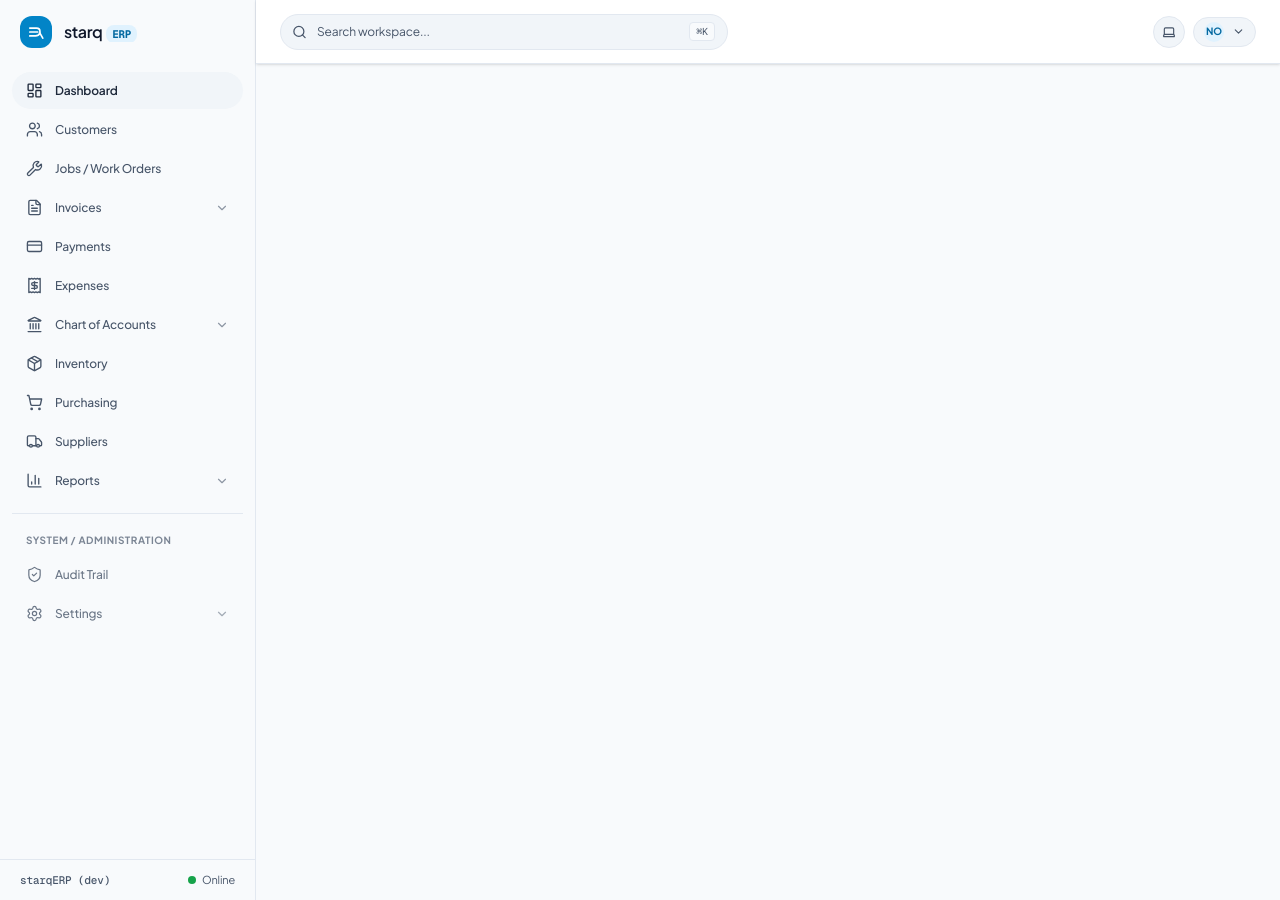
SERP-298 — Strict Platform Entitlement & Access Isolation › allows an operator identity with explicit platform_entitlement to access Starq HQ
// Open organization switcher dropdown
Click the button with aria-label "Organization switcher" at (1224, 32), box [1193,16,1256,46]
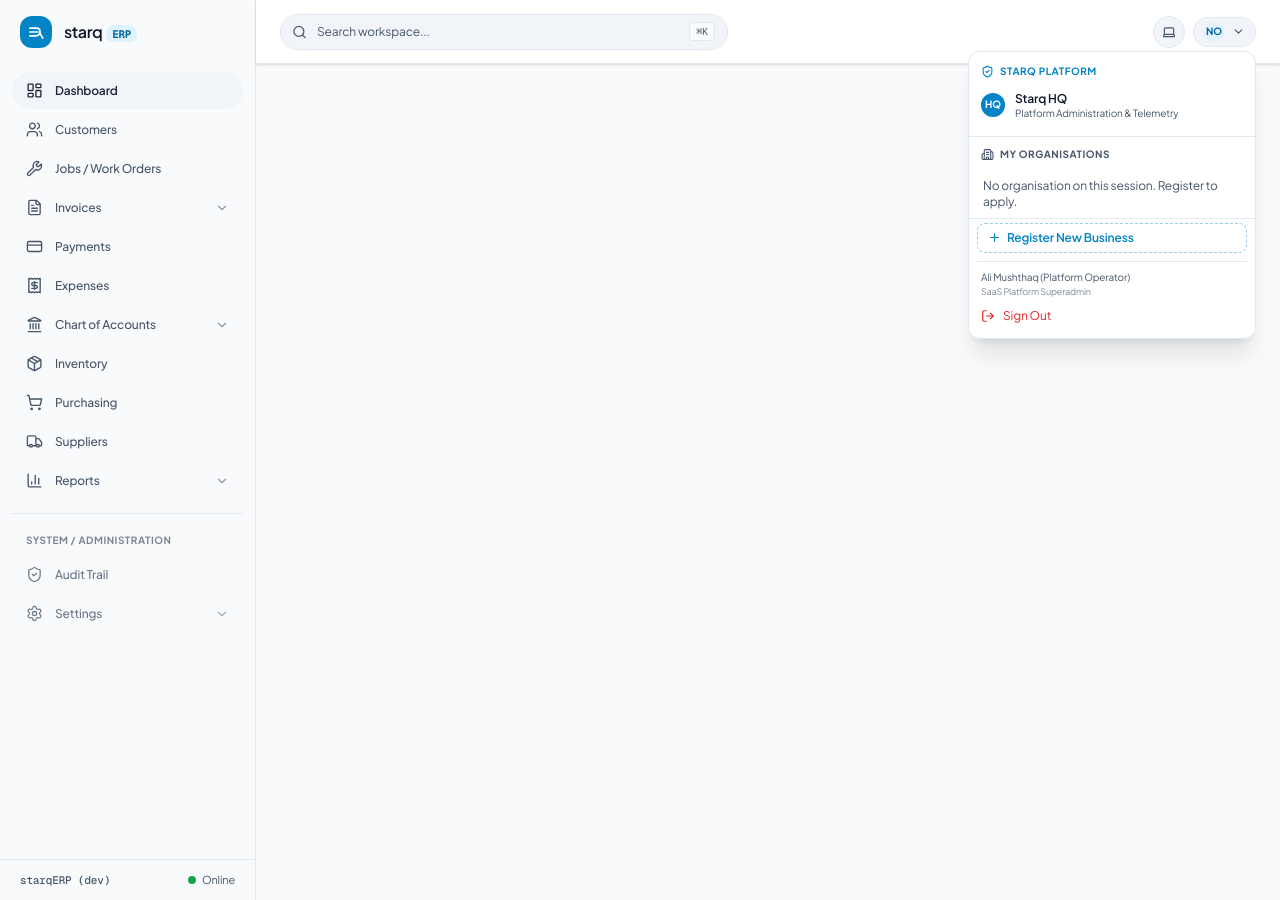
Now the text "Starq Platform" is shown, box [1000,64,1097,78]
Now the menu item "HQ Starq HQ Platform Administration & Telemetry" is shown
// Switch to Starq HQ
Click the menu item "HQ Starq HQ Platform Administration & Telemetry" at (1112, 105), box [969,82,1255,128]
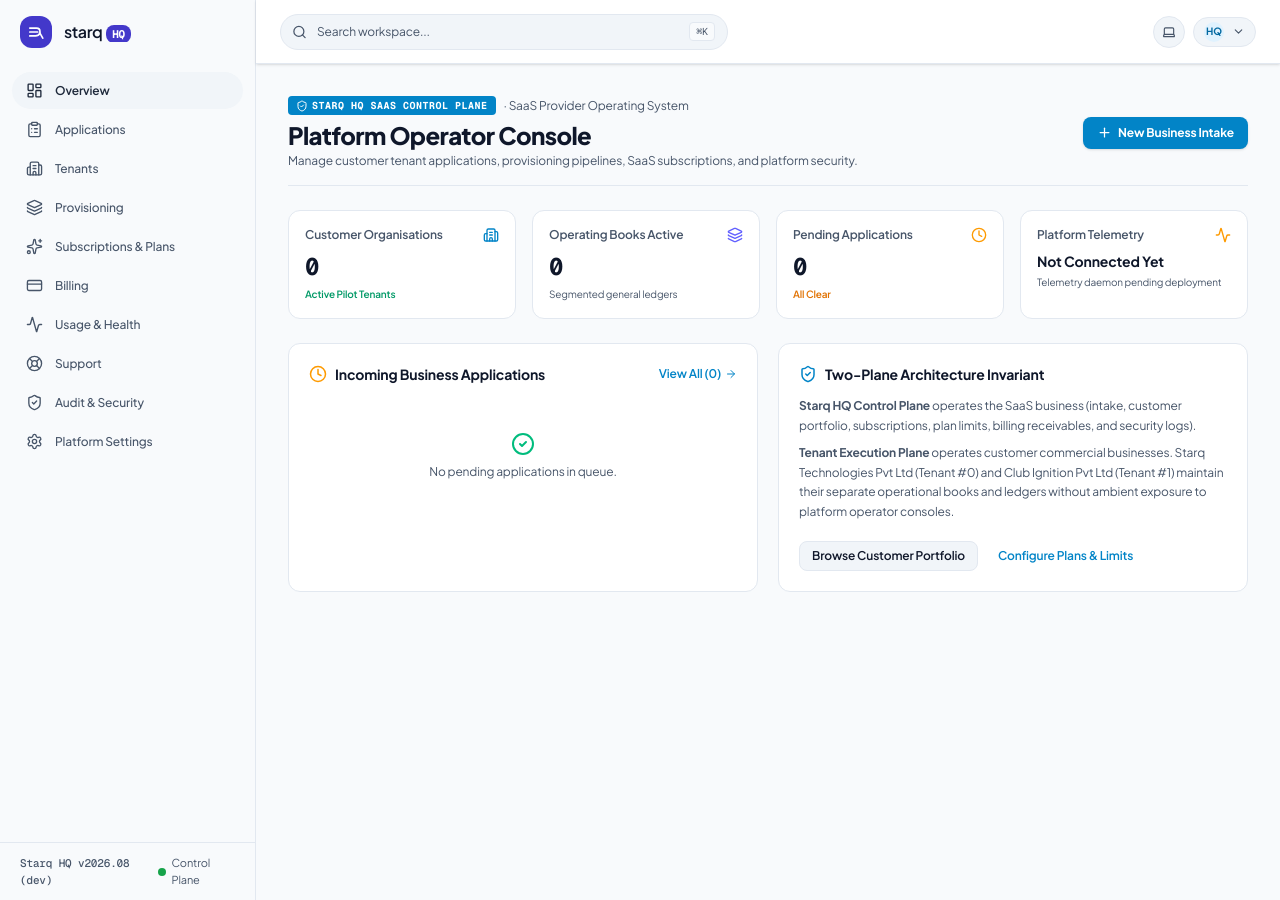
Now the heading "Platform Operator Console" is shown, box [288,120,591,150]
Now the button "New Business Intake" is shown, box [1083,116,1248,148]
